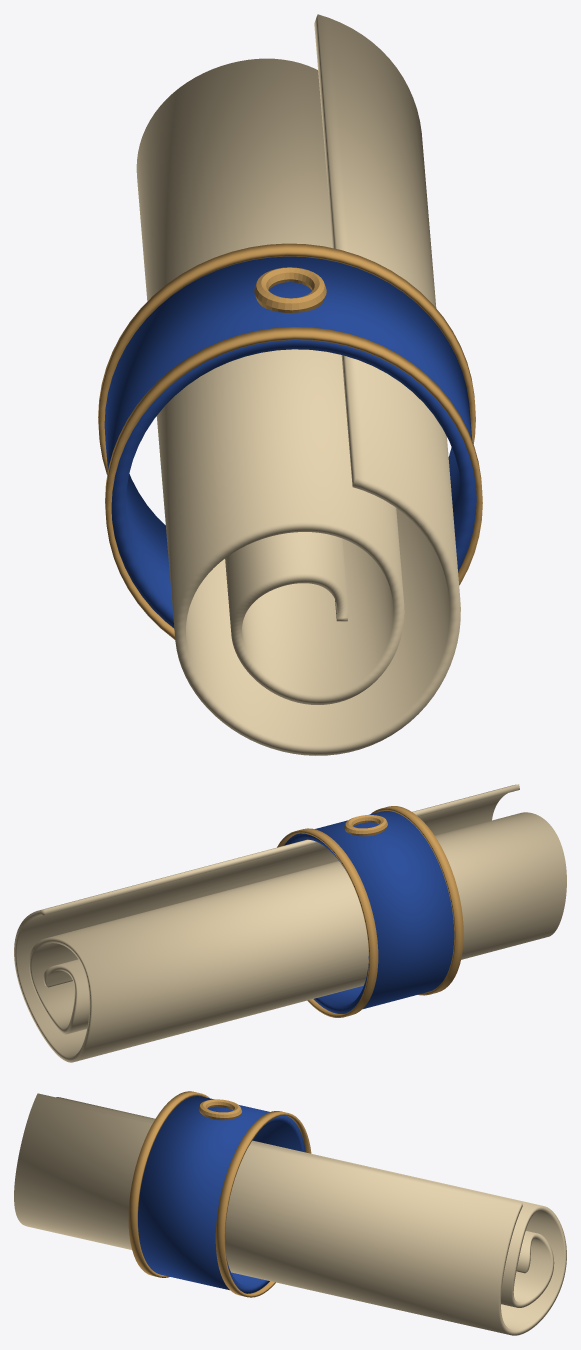
Rendered from pergamino.glb.
3 views of the same model, one above another, from view 1: azimuth 30°, elevation 25°; view 2: azimuth 150°, elevation 25°; view 3: azimuth 270°, elevation 25° (orthographic). The views are drawn at different scales.
Parts seen in each view (by area): view 1: TownPortalScroll_Mesh; view 2: TownPortalScroll_Mesh; view 3: TownPortalScroll_Mesh.
Part boxes in pixels (bbox=[...]): TownPortalScroll_Mesh: bbox=[98, 14, 482, 755]; TownPortalScroll_Mesh: bbox=[14, 784, 566, 1062]; TownPortalScroll_Mesh: bbox=[14, 1091, 566, 1335].
Bounding box in the file's own units: 0.105 × 0.0525 × 0.1512.
